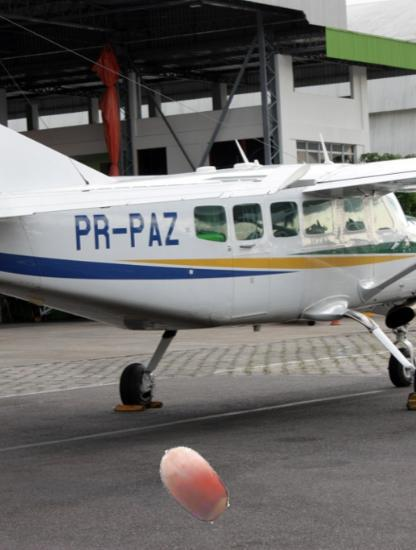Hazelnut: (152, 440, 236, 524)
